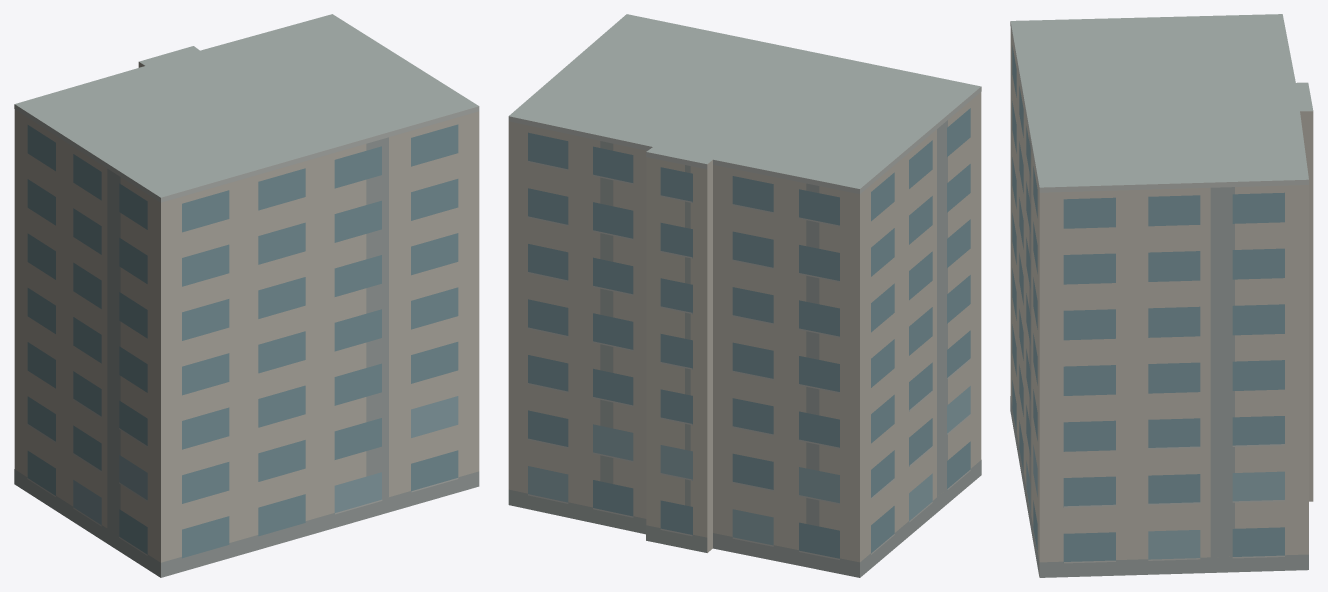
Rendered from survey-upis-32704141.glb.
3 views of the same model, side by side, from view 1: azimuth 30°, elevation 25°; view 2: azimuth 150°, elevation 25°; view 3: azimuth 270°, elevation 25° (orthographic). The views are drawn at different scales.
Parts seen in each view (by area): view 1: survey-upis-32704141.tmp; view 2: survey-upis-32704141.tmp; view 3: survey-upis-32704141.tmp.
Part boxes in pixels (x1,y1,x2,y2): survey-upis-32704141.tmp: [14, 14, 479, 577]; survey-upis-32704141.tmp: [508, 14, 981, 577]; survey-upis-32704141.tmp: [1010, 14, 1313, 577].
Bounding box in the file's own units: 17.56 × 18.4 × 12.95.
